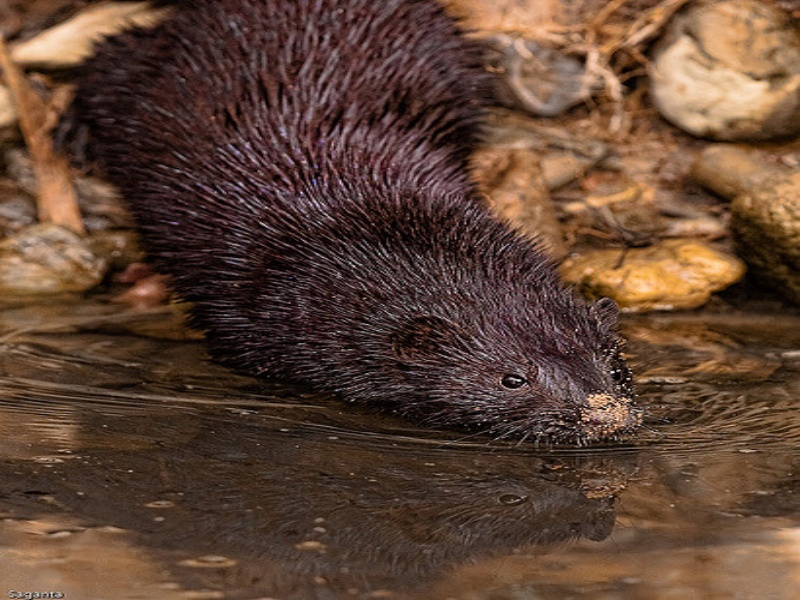minkish: (52, 1, 653, 451)
